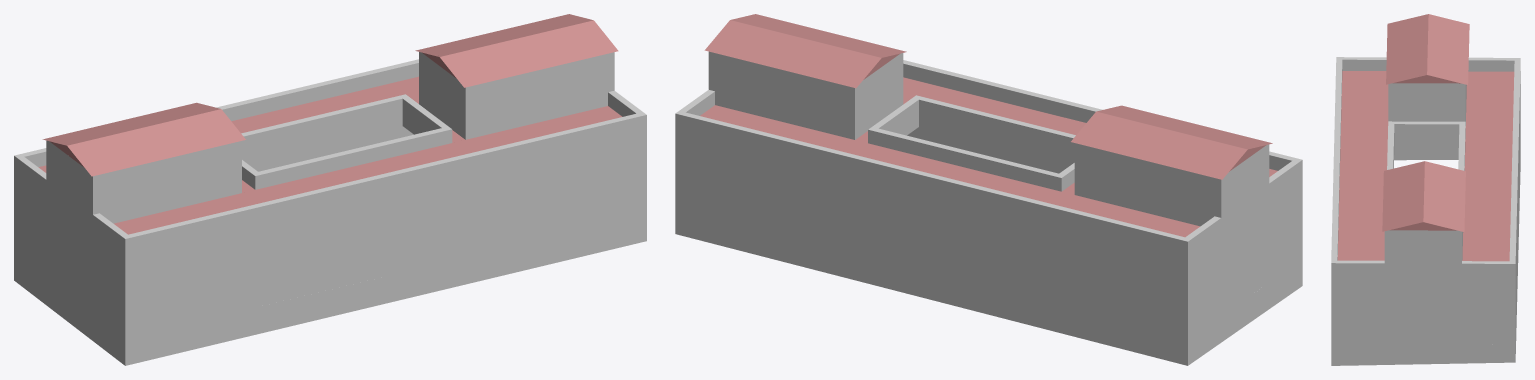
File: LOD_Block_0_73.glb
3 views of the same model, side by side, from view 1: azimuth 30°, elevation 25°; view 2: azimuth 150°, elevation 25°; view 3: azimuth 270°, elevation 25° (orthographic). The views are drawn at different scales.
Parts seen in each view (by area): view 1: mesh_CityEngineMaterial_1111; view 2: mesh_CityEngineMaterial_1111; view 3: mesh_CityEngineMaterial_1111.
Boxes of the visible parts, <box> form: mesh_CityEngineMaterial_1111: <box>14,14,646,365</box>; mesh_CityEngineMaterial_1111: <box>675,14,1302,365</box>; mesh_CityEngineMaterial_1111: <box>1331,14,1520,365</box>.
Bounding box in the file's own units: 39.95 × 13.03 × 15.36.
